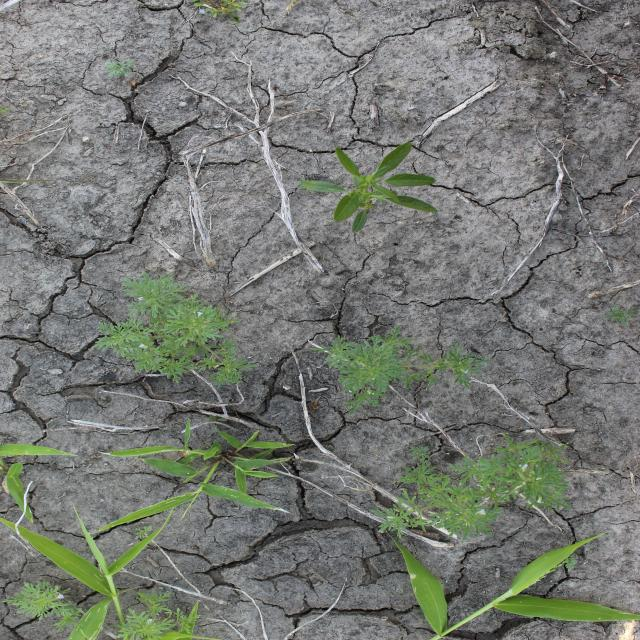Carpetweed: (190, 1, 252, 21)
Ragweed: (369, 432, 576, 543), (91, 270, 261, 389), (309, 324, 494, 416), (110, 589, 202, 639), (1, 580, 84, 632), (602, 304, 638, 328), (101, 58, 137, 80)
Waterhemp: (298, 141, 440, 234)
